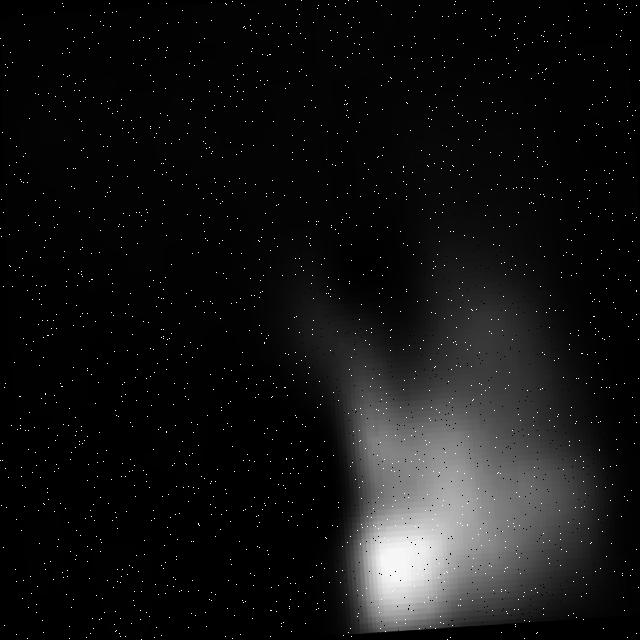person: (278, 151, 640, 638)
